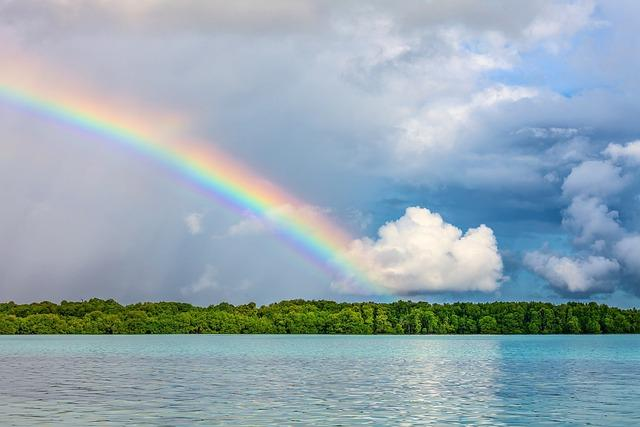Non_Gorille: (66, 40, 592, 410)
